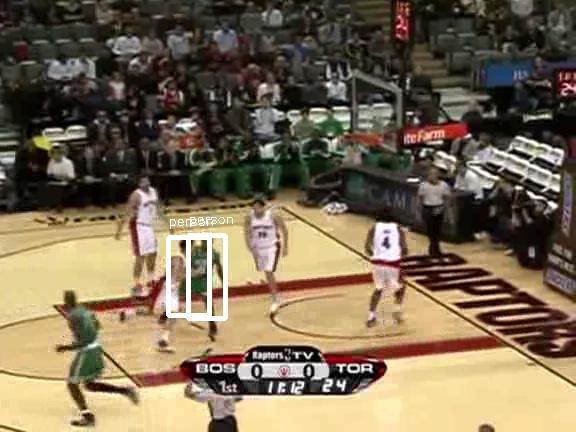person: (187, 233, 221, 314), (186, 233, 220, 314), (188, 233, 222, 314), (187, 232, 221, 313), (187, 234, 221, 315)
target_negative: (439, 53, 512, 410), (443, 12, 567, 119), (393, 94, 487, 195), (297, 41, 330, 157), (49, 400, 545, 405), (69, 162, 120, 178)
